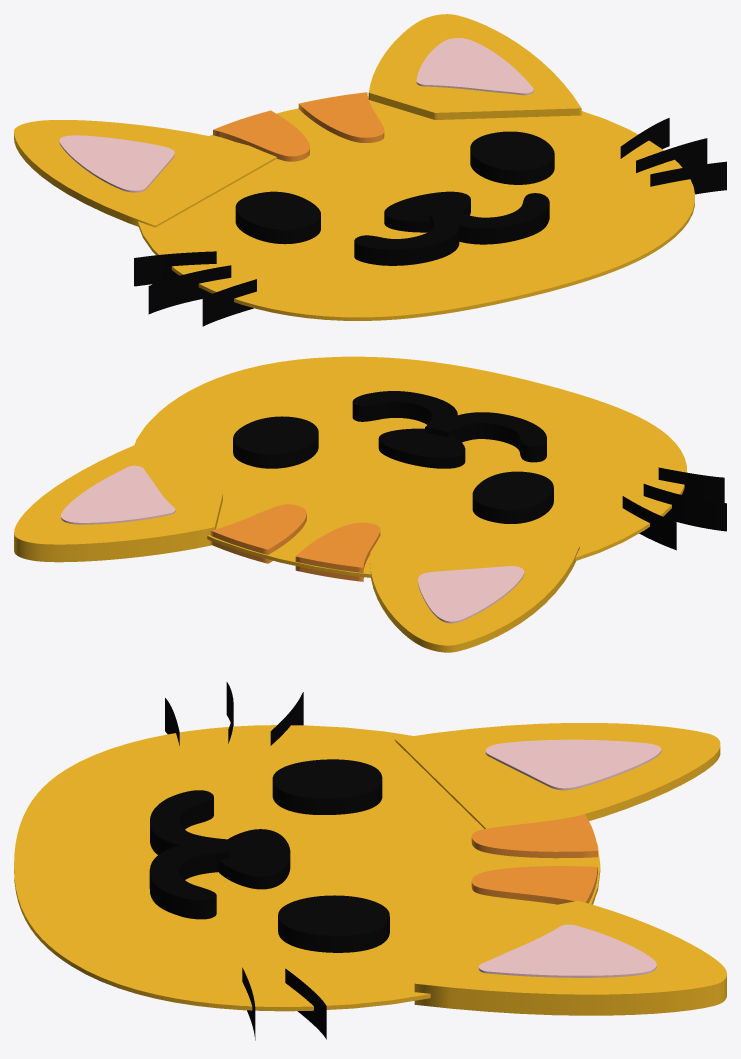
Rendered from emoji_u1f431.glb.
The picture shows the model from 3 angles, top to bottom: view 1: azimuth 30°, elevation 25°; view 2: azimuth 150°, elevation 25°; view 3: azimuth 270°, elevation 25°; orthographic projection. The views are drawn at different scales.
Visible parts, largest first — view 1: emoji_u1f431; view 2: emoji_u1f431; view 3: emoji_u1f431.
Part boxes in pixels (x1,y1,x2,y2): emoji_u1f431: (14, 14, 726, 326); emoji_u1f431: (14, 356, 726, 652); emoji_u1f431: (14, 682, 726, 1040).
Size of the model in its own units: 0.0335 by 0.002 by 0.0306.
